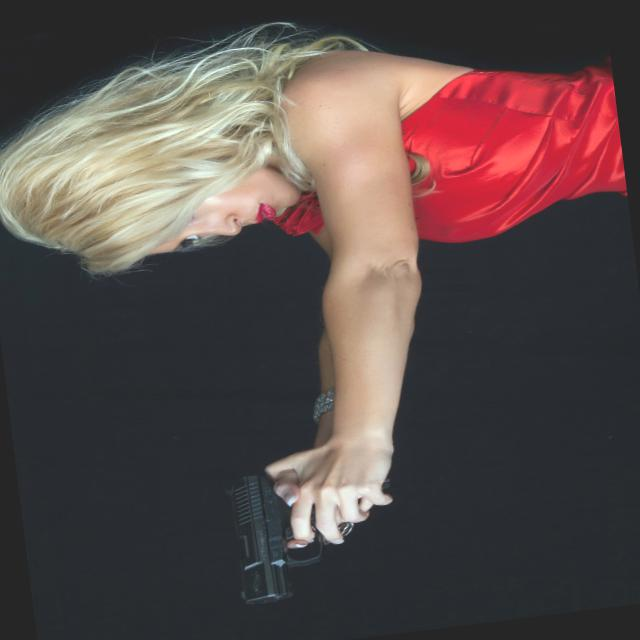handgun: (216, 448, 404, 608)
